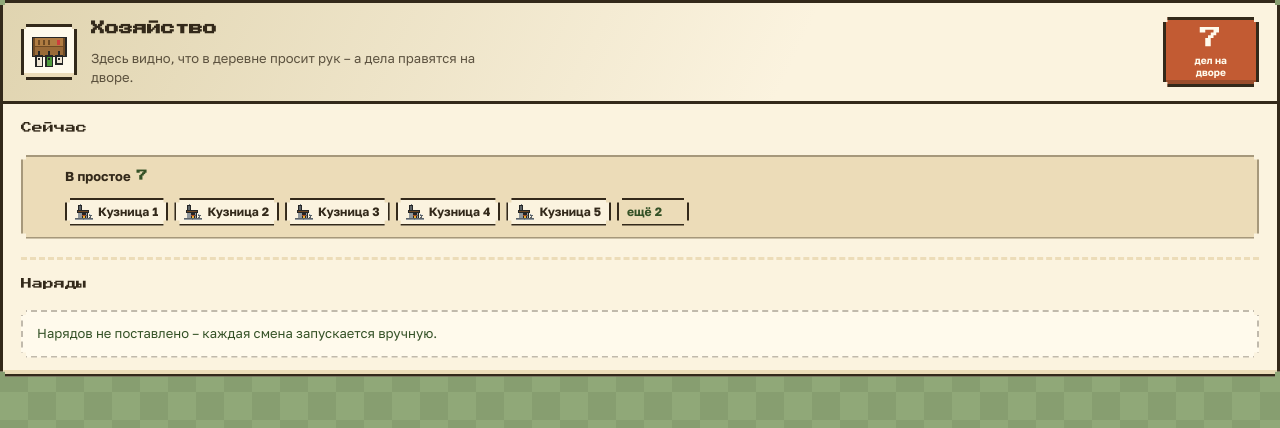
Test case: HouseholdBox idle building chip expander › shows 5 chips by default and reveals the rest via «ещё N», toggling aria-expanded
This screenshot has width=1280, height=428.
Expected: the number of buttons "Кузница 1" is 5, [65,198,168,226]; [174,198,279,226]; [285,198,390,226]; [396,198,500,226]; [506,198,611,226]
Click the button "ещё 2": [653, 212] box [617,198,689,226]
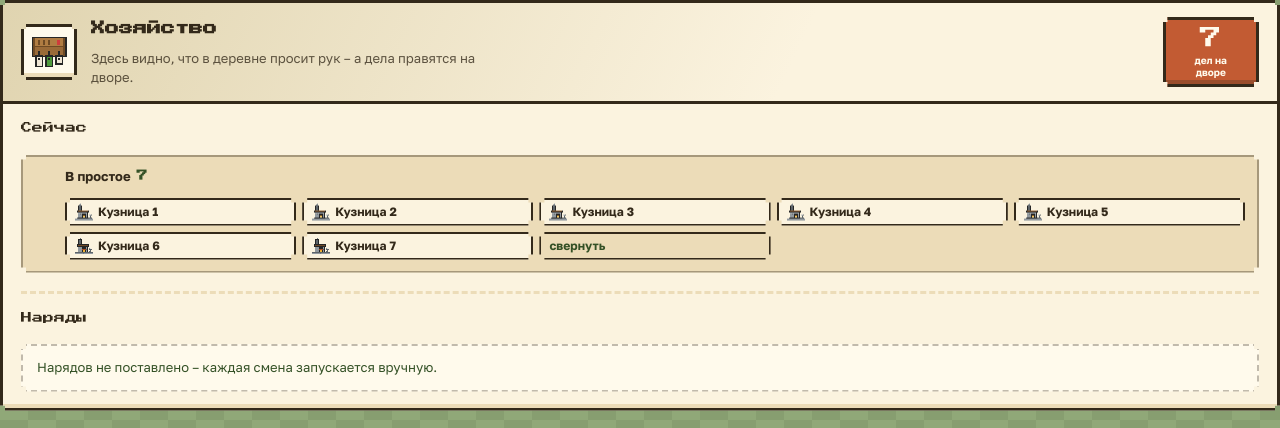
Expected: the number of buttons "Кузница 1" is 7
Expected: the button "свернуть" is expanded, [539,232,771,260]
